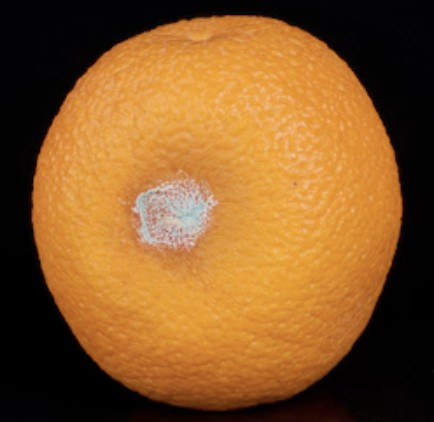rotten_orange: (30, 16, 401, 402)
